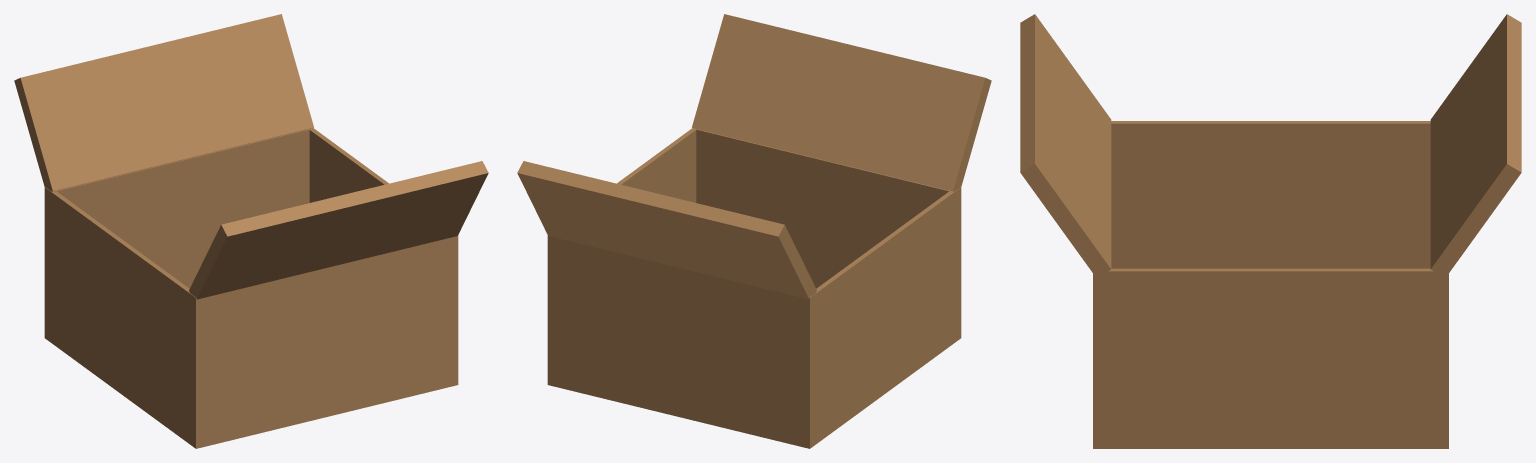
3 renders of one model, left to right at view 1: azimuth 30°, elevation 25°; view 2: azimuth 150°, elevation 25°; view 3: azimuth 270°, elevation 25°, orthographic. The views are drawn at different scales.
Visible parts, largest first — view 1: Cube.003; view 2: Cube.003; view 3: Cube.003.
Boxes of the visible parts, box(x1,y1,x2,y2) form: Cube.003: box(14, 14, 488, 448); Cube.003: box(517, 14, 991, 448); Cube.003: box(1020, 14, 1521, 448).
Size of the model in its own units: 265 by 234 by 373.
